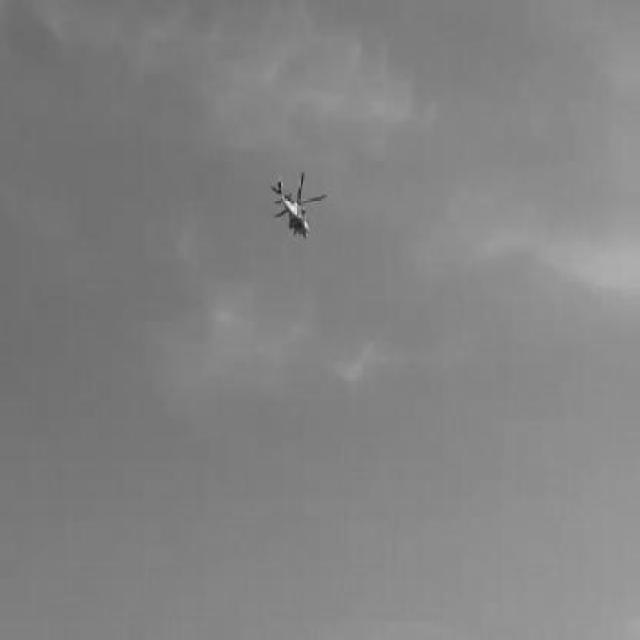helikopter: (267, 171, 330, 246)
